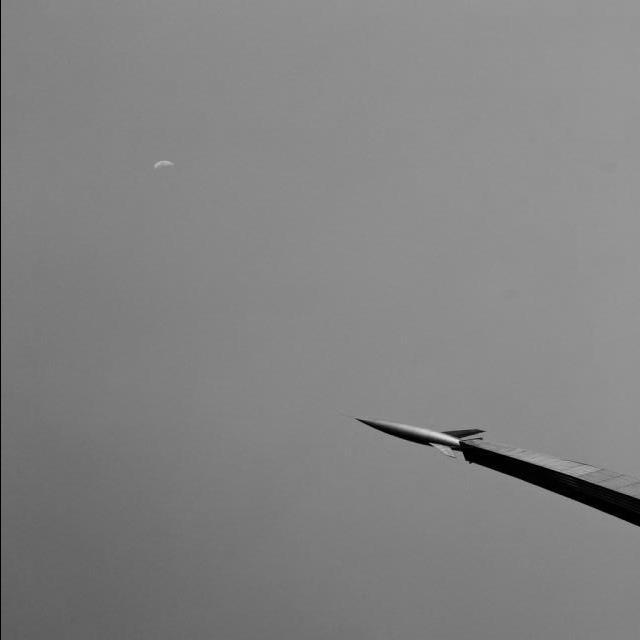missile: (329, 408, 485, 461)
